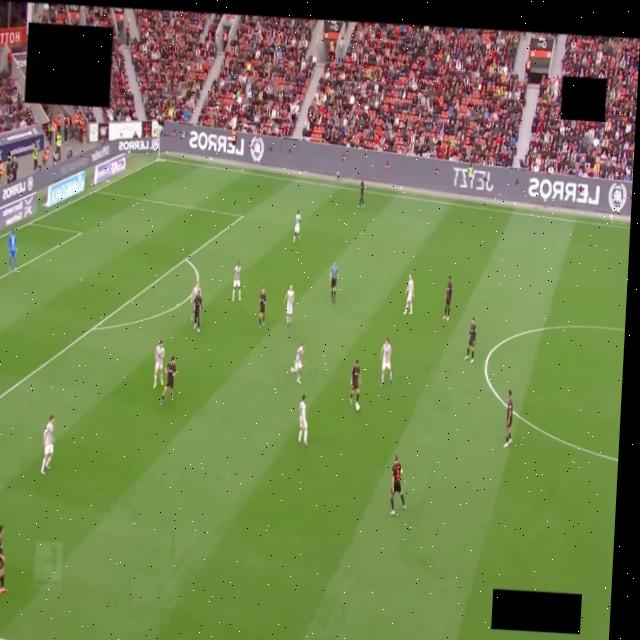ball: (355, 402, 359, 411)
player: (390, 454, 405, 516), (41, 415, 54, 475), (161, 356, 175, 404), (380, 338, 392, 386), (290, 343, 304, 384), (349, 360, 360, 411), (503, 390, 512, 447), (465, 317, 476, 363), (191, 291, 203, 333), (283, 285, 294, 328), (153, 340, 163, 387), (442, 275, 452, 321), (298, 395, 307, 445), (190, 281, 200, 323), (403, 274, 413, 315), (0, 526, 6, 593), (7, 229, 16, 271), (232, 262, 240, 302), (258, 288, 266, 327), (292, 210, 300, 243), (357, 181, 364, 207)
referee: (329, 262, 337, 303)
